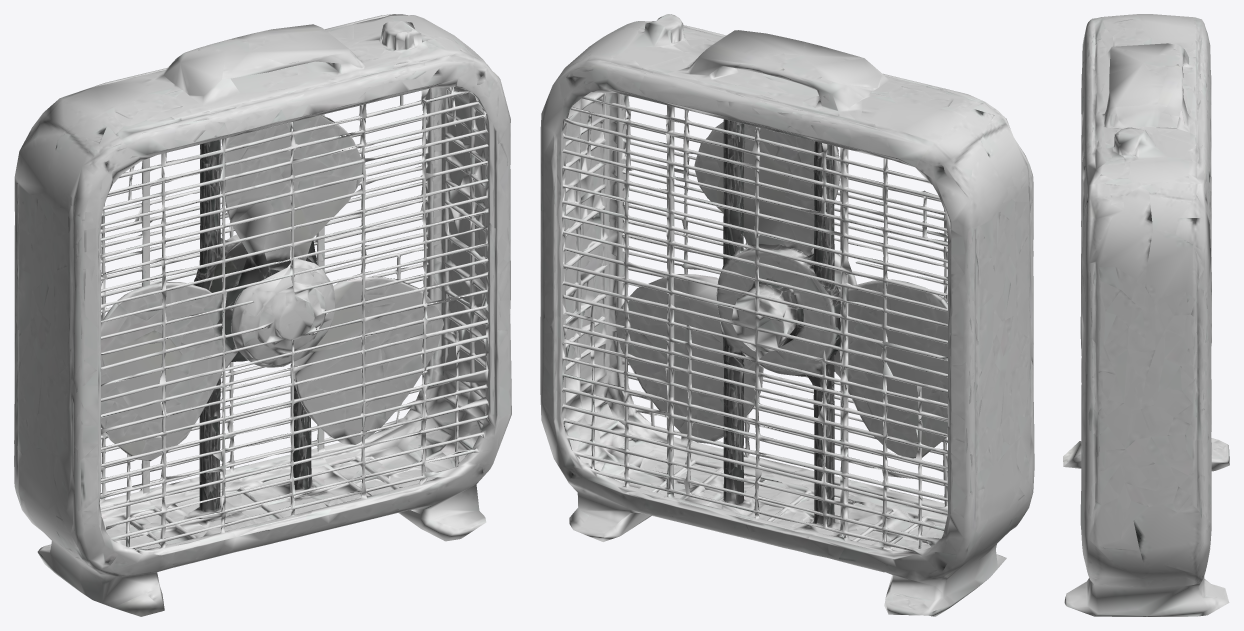
File: mobile.glb
The picture shows the model from 3 angles, left to right: view 1: azimuth 30°, elevation 25°; view 2: azimuth 150°, elevation 25°; view 3: azimuth 270°, elevation 25°; orthographic projection. The views are drawn at different scales.
Visible parts, largest first — view 1: d-boxfan; view 2: d-boxfan; view 3: d-boxfan.
Boxes of the visible parts, x1,y1,x2,y2 form: d-boxfan: (14,14,511,616); d-boxfan: (540,14,1034,616); d-boxfan: (1063,14,1229,616).
Size of the model in its own units: 0.5003 by 0.5404 by 0.1763.
1 material, 1 textured.
